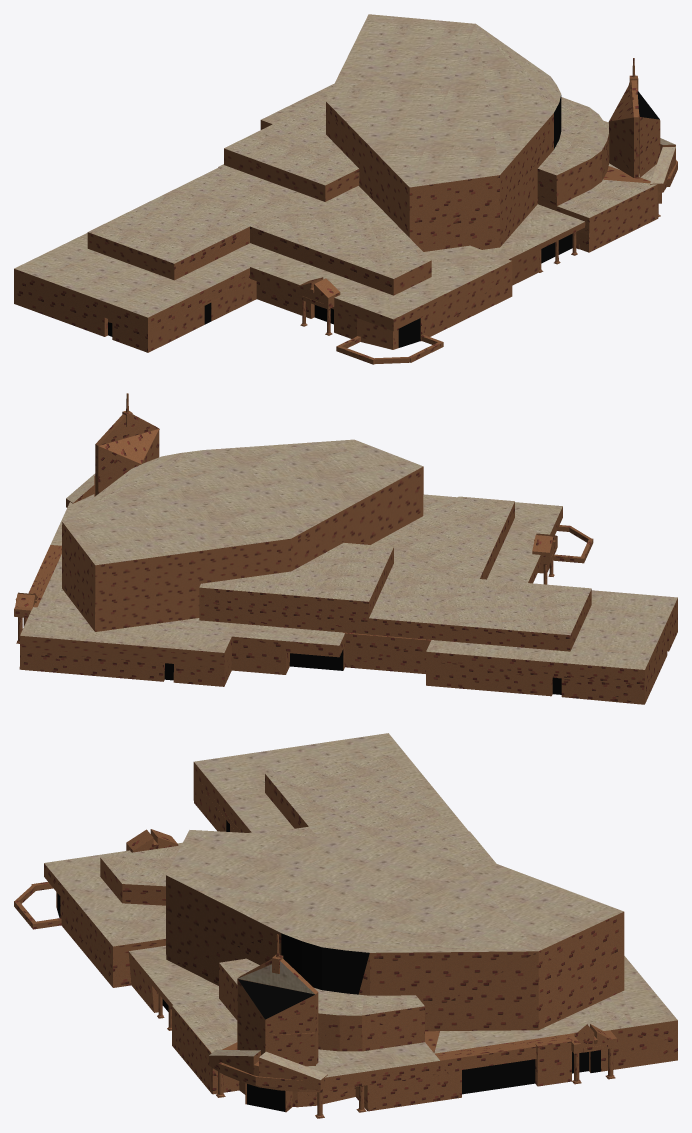
File: dmc_origin.fbx
3 views of the same model, one above another, from view 1: azimuth 30°, elevation 25°; view 2: azimuth 150°, elevation 25°; view 3: azimuth 270°, elevation 25° (orthographic). The views are drawn at different scales.
Parts seen in each view (by area): view 1: DMC; view 2: DMC; view 3: DMC.
Boxes of the visible parts, box(x1,y1,x2,y2) form: DMC: box(14, 14, 677, 364); DMC: box(14, 393, 677, 704); DMC: box(14, 733, 677, 1118).
Bounding box in the file's own units: 5200 × 1140 × 4173.
Materials: 3 (3 with a texture image).
